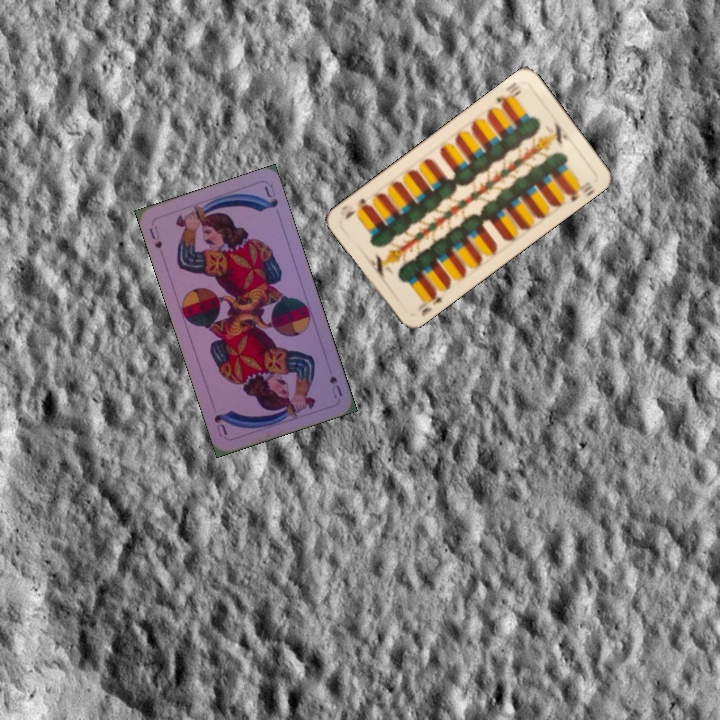E10: (492, 78, 524, 109), (417, 286, 445, 319)
SU: (325, 372, 345, 401), (145, 222, 165, 251)
